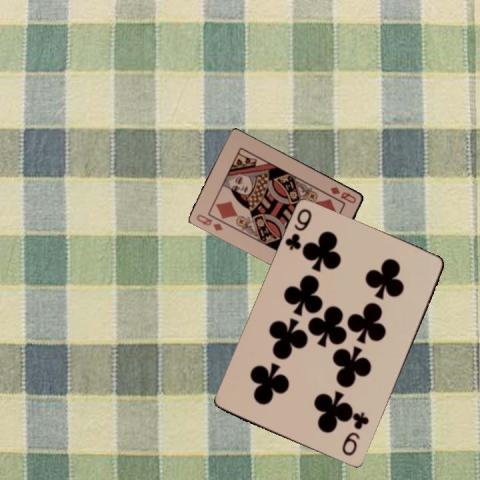9c: (339, 409, 371, 458), (282, 206, 313, 252)
Qd: (193, 211, 225, 233), (327, 183, 358, 205)
